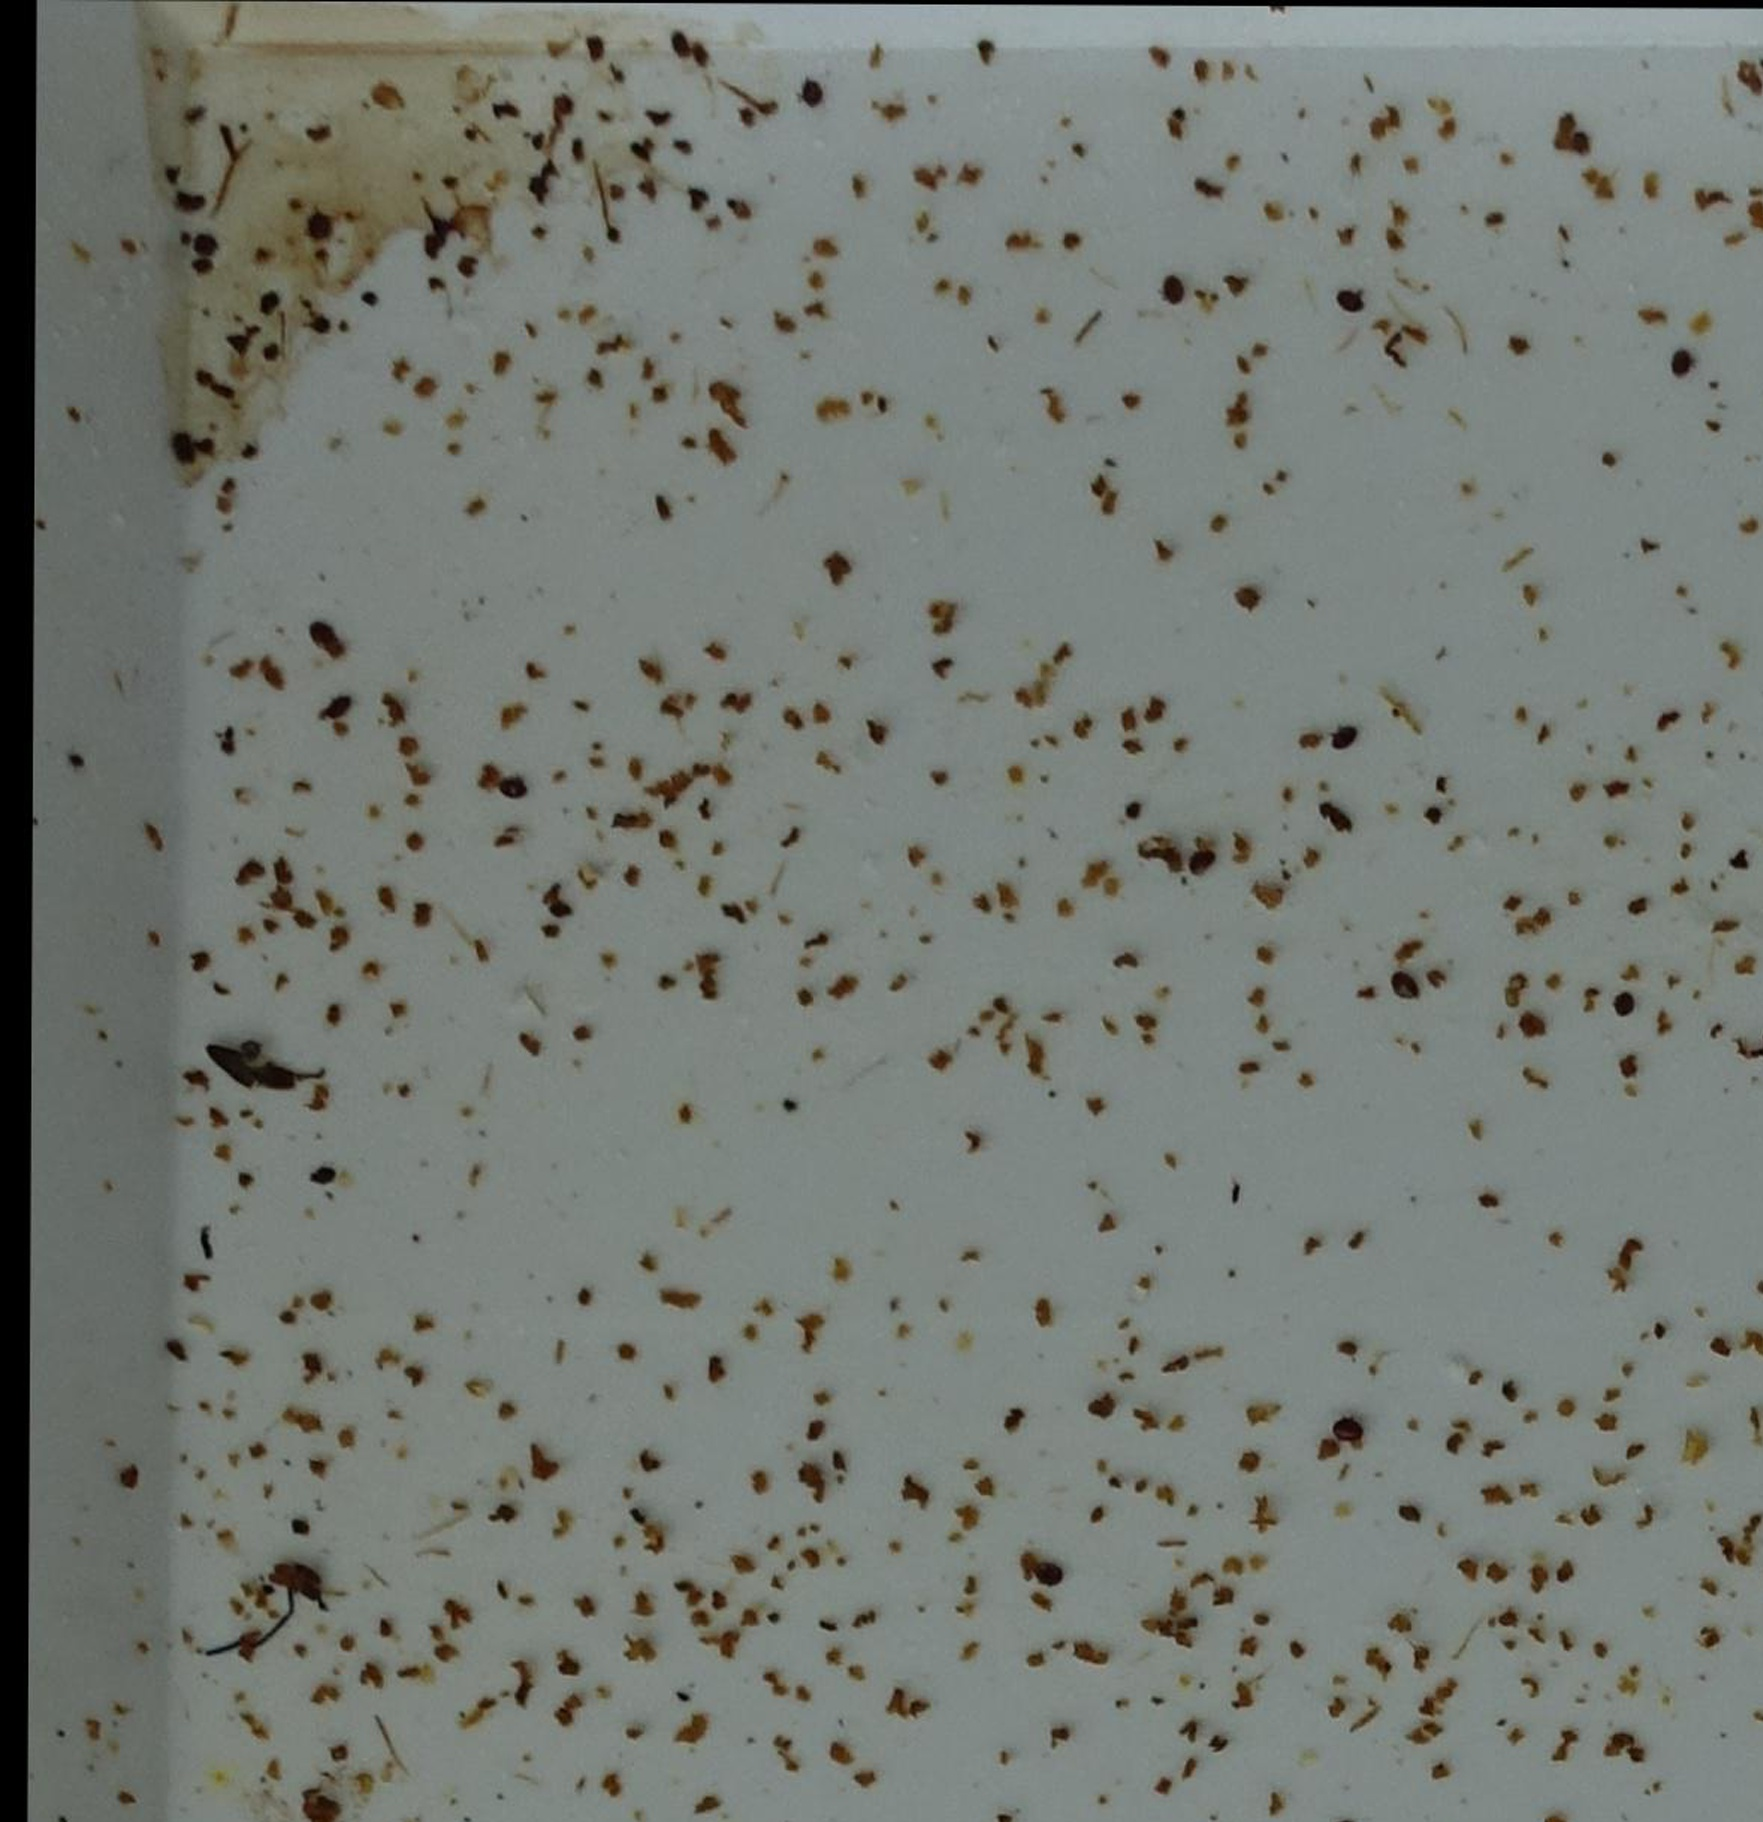Varroa: (1661, 342, 1704, 386), (299, 613, 343, 656), (316, 683, 358, 726), (1324, 721, 1360, 755), (1184, 848, 1215, 880), (1334, 1417, 1363, 1446), (1034, 1558, 1064, 1588), (795, 85, 825, 114), (1158, 275, 1186, 304), (1342, 286, 1368, 317), (1391, 970, 1418, 997), (1617, 987, 1644, 1015), (503, 776, 529, 804)
